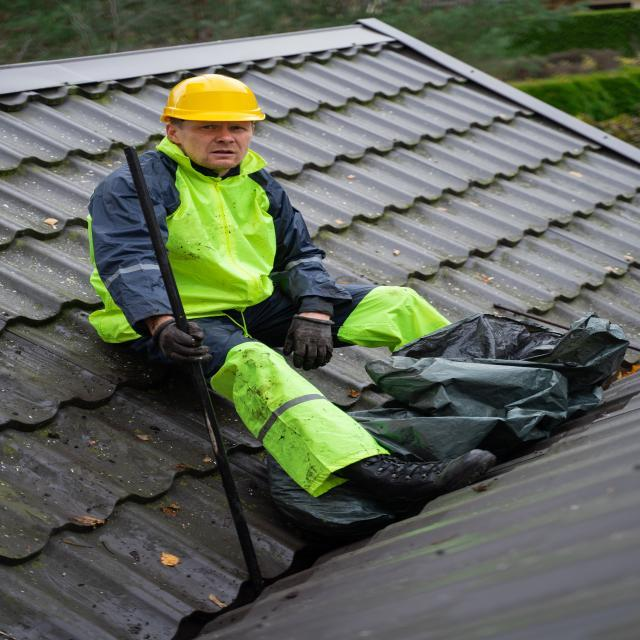helmet: (162, 59, 267, 140)
